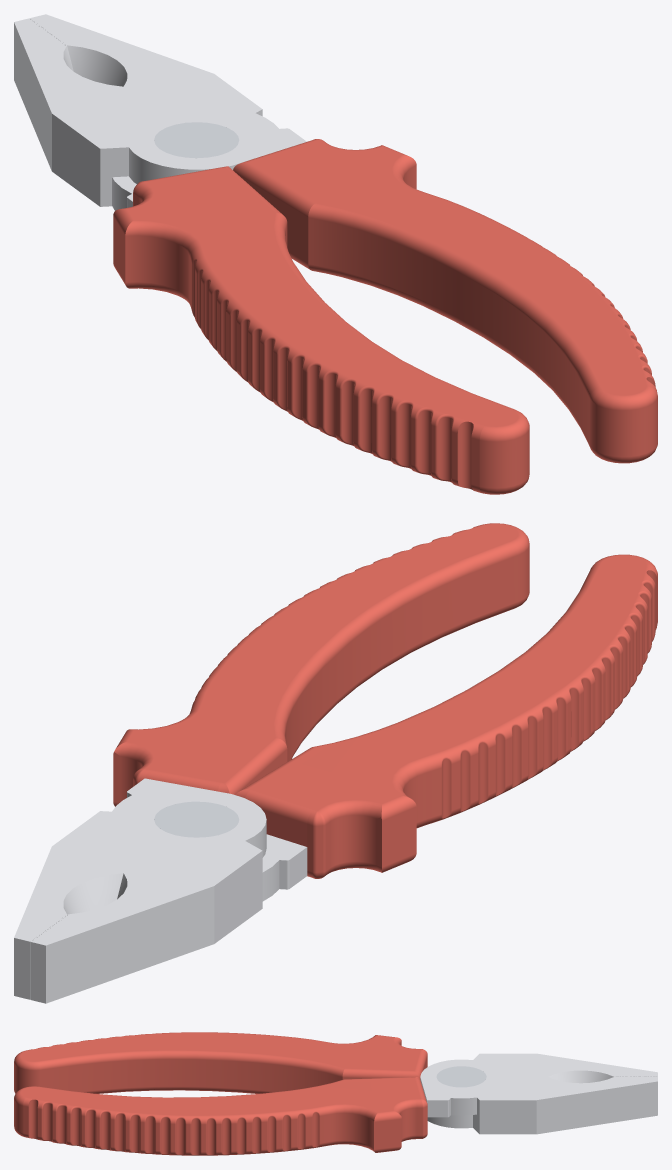
Rendered from pliers_closed.dae.
3 renders of one model, top to bottom at view 1: azimuth 30°, elevation 25°; view 2: azimuth 150°, elevation 25°; view 3: azimuth 270°, elevation 25°, orthographic. The views are drawn at different scales.
Parts seen in each view (by area): view 1: Pliers Closed; view 2: Pliers Closed; view 3: Pliers Closed.
Boxes of the visible parts, x1=… form: Pliers Closed: x1=14, y1=14, x2=657, y2=494; Pliers Closed: x1=14, y1=523, x2=657, y2=1003; Pliers Closed: x1=14, y1=1032, x2=657, y2=1155.
Bounding box in the file's own units: 0.052 × 0.16 × 0.0108.
